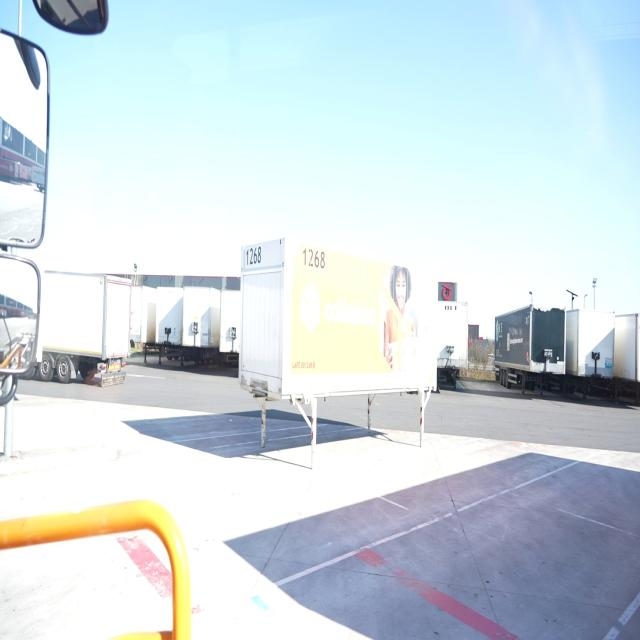Code: (298, 246, 328, 273), (244, 244, 263, 273)
